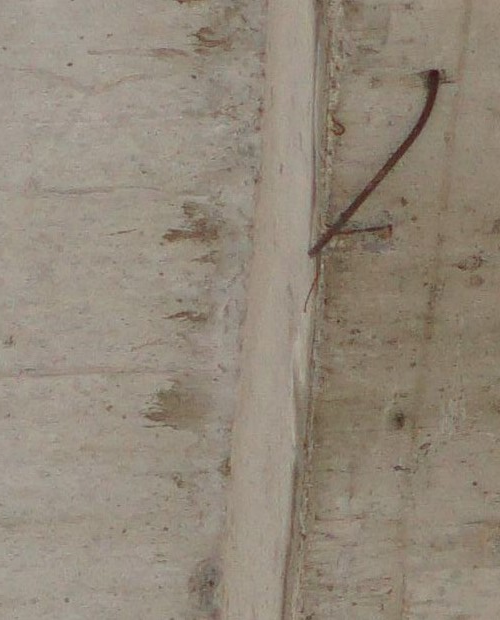Exposed reinforcement: (307, 69, 440, 259)
